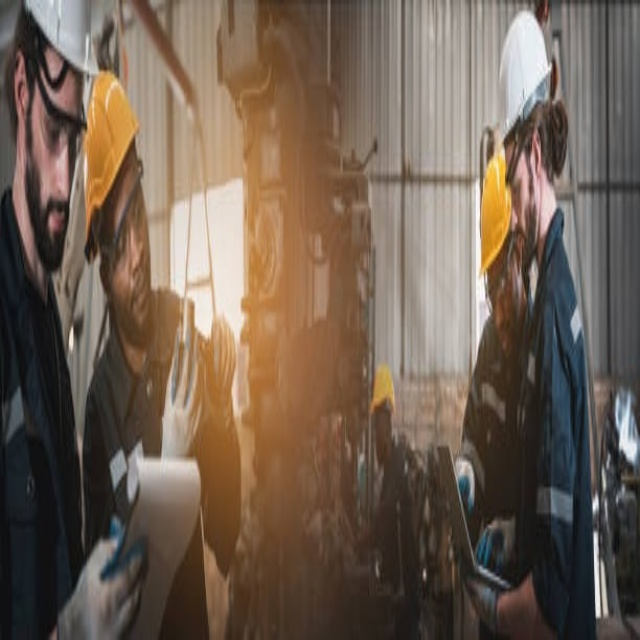Gafas: (30, 38, 87, 148), (100, 164, 145, 283), (483, 221, 517, 314), (503, 119, 533, 192)
Guantes: (55, 506, 152, 633), (163, 320, 201, 465), (208, 305, 236, 432), (458, 547, 500, 625), (476, 502, 518, 577), (452, 447, 478, 506)
Sin_mascara: (42, 182, 71, 264), (125, 257, 152, 327), (512, 212, 530, 264), (496, 316, 512, 372)
